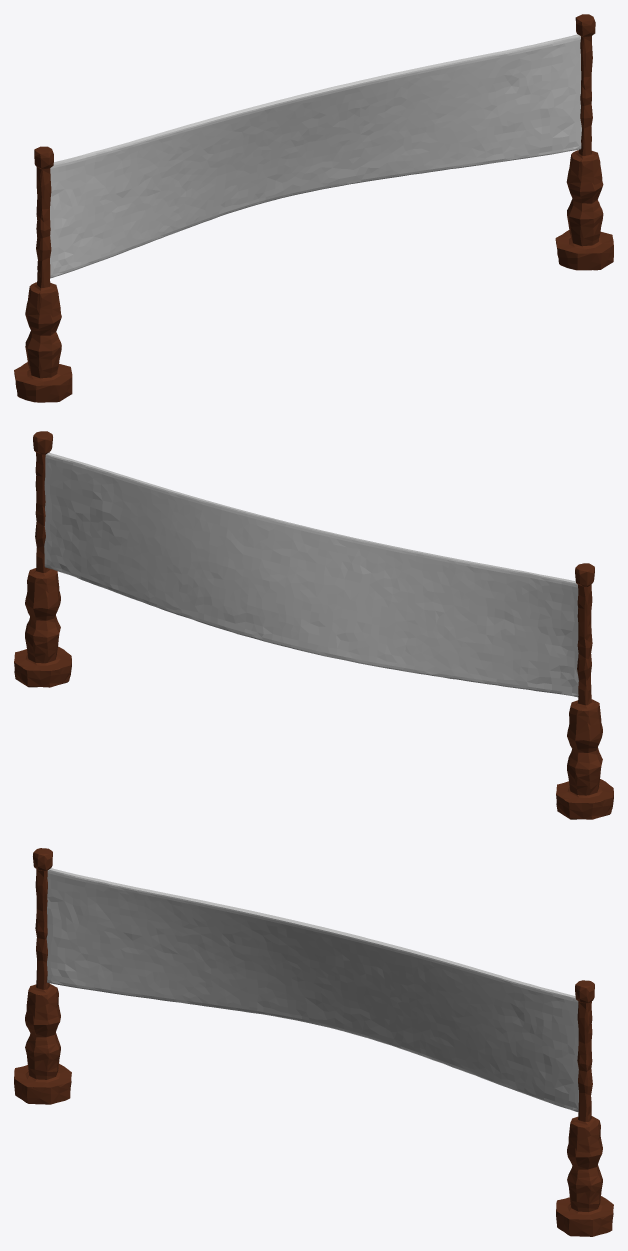
The model's file is DesertLandSnakeFlag0274.obj.
3 renders of one model, top to bottom at view 1: azimuth 30°, elevation 25°; view 2: azimuth 150°, elevation 25°; view 3: azimuth 330°, elevation 25°, orthographic.
Parts seen in each view (by area): view 1: Cube.003, Cube, Cube.002; view 2: Cube.003, Cube, Cube.002; view 3: Cube.003, Cube.002, Cube.
Part boxes in pixels (x1,y1,x2,y2): Cube.003: (50,34,581,278); Cube: (14,146,72,402); Cube.002: (555,14,613,270); Cube.003: (44,452,578,697); Cube: (556,563,613,819); Cube.002: (14,431,71,687); Cube.003: (46,868,578,1112); Cube.002: (556,980,613,1236); Cube: (14,848,71,1104).
Size of the model in its own units: 27.57 by 10.7 by 3.32.
